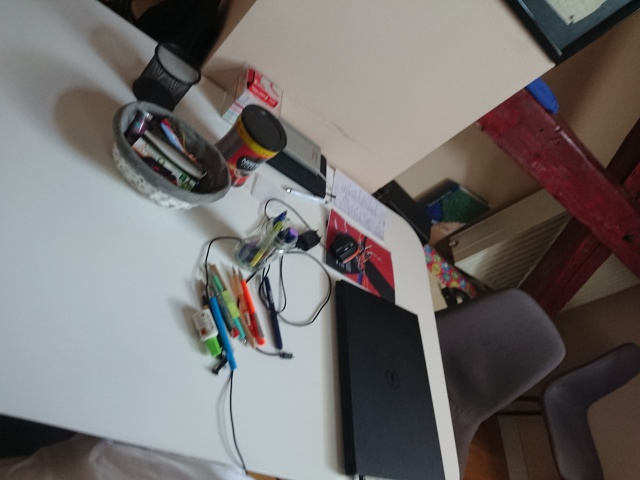Nescafe Classic 225g: (202, 102, 290, 189)
